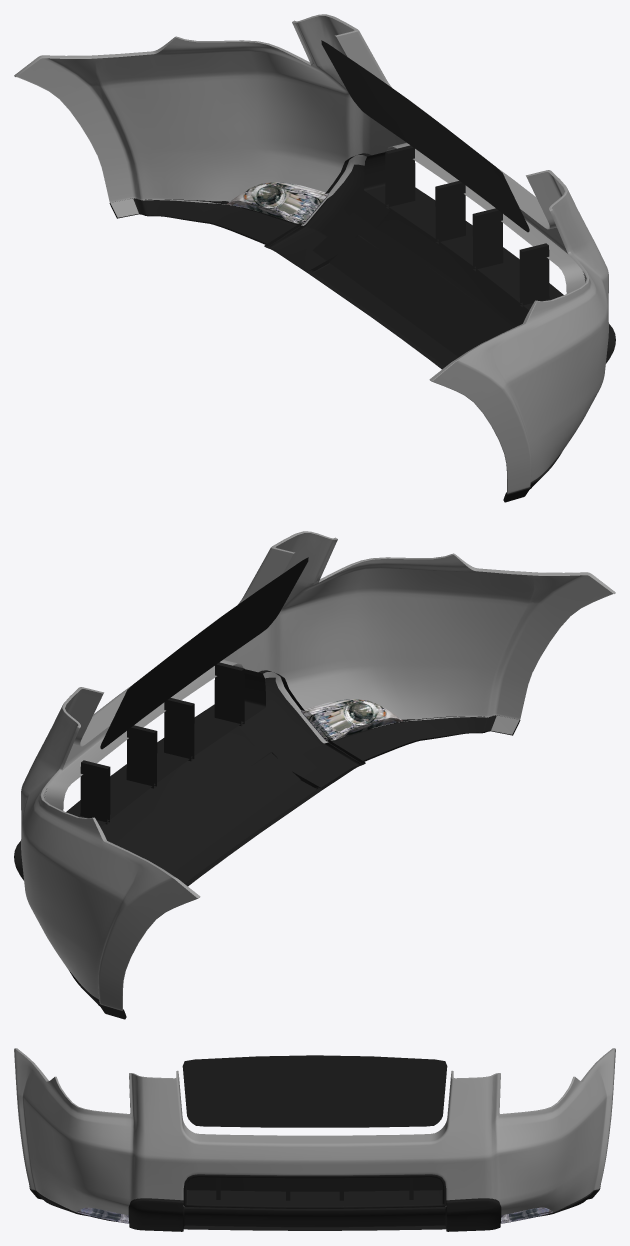
The picture shows the model from 3 angles, top to bottom: view 1: azimuth 30°, elevation 25°; view 2: azimuth 150°, elevation 25°; view 3: azimuth 270°, elevation 25°; orthographic projection. The views are drawn at different scales.
Parts seen in each view (by area): view 1: H712_021G_C_H712_021G_C_5_DaS, H712_021G_C_H712_021G_C_2_D, H712_021G_C_1_D_H712_021G_C, H712_021G_C_H712_021G_C_5_DaS_E, H712_021G_C_H712_021G_C_4_N; view 2: H712_021G_C_H712_021G_C_5_DaS, H712_021G_C_H712_021G_C_2_D, H712_021G_C_1_D_H712_021G_C, H712_021G_C_H712_021G_C_5_DaS_E, H712_021G_C_H712_021G_C_3_N; view 3: H712_021G_C_H712_021G_C_5_DaS, H712_021G_C_1_D_H712_021G_C, H712_021G_C_H712_021G_C_2_D, H712_021G_C_H712_021G_C_5_DaS_E, H712_021G_C_H712_021G_C_4_N, H712_021G_C_H712_021G_C_3_N, H712_021G_C_H712_021G_C_6_DTaSI, H712_021G_C_H712_021G_C_7_DTaSI.
Boxes of the visible parts, box(x1,y1,x2,y2) form: H712_021G_C_H712_021G_C_5_DaS: box(17, 16, 608, 493); H712_021G_C_H712_021G_C_2_D: box(109, 145, 615, 502); H712_021G_C_1_D_H712_021G_C: box(313, 40, 529, 357); H712_021G_C_H712_021G_C_5_DaS_E: box(14, 14, 589, 493); H712_021G_C_H712_021G_C_4_N: box(227, 182, 328, 223); H712_021G_C_H712_021G_C_5_DaS: box(21, 533, 614, 1010); H712_021G_C_H712_021G_C_2_D: box(14, 662, 520, 1019); H712_021G_C_1_D_H712_021G_C: box(100, 557, 316, 874); H712_021G_C_H712_021G_C_5_DaS_E: box(40, 531, 615, 1010); H712_021G_C_H712_021G_C_3_N: box(301, 699, 402, 740); H712_021G_C_H712_021G_C_5_DaS: box(14, 1048, 615, 1215); H712_021G_C_1_D_H712_021G_C: box(182, 1055, 447, 1191); H712_021G_C_H712_021G_C_2_D: box(29, 1174, 600, 1231); H712_021G_C_H712_021G_C_5_DaS_E: box(15, 1048, 614, 1211); H712_021G_C_H712_021G_C_4_N: box(501, 1207, 552, 1223); H712_021G_C_H712_021G_C_3_N: box(77, 1207, 128, 1223); H712_021G_C_H712_021G_C_6_DTaSI: box(501, 1208, 552, 1223); H712_021G_C_H712_021G_C_7_DTaSI: box(77, 1208, 128, 1223).
Bounding box in the file's own units: 86.19 × 70.44 × 222.
